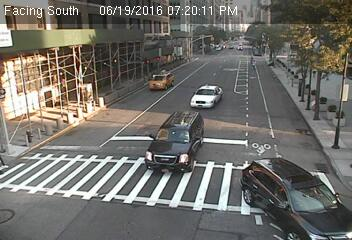neg: (152, 178, 175, 210), (115, 159, 138, 190), (103, 63, 123, 90), (77, 164, 96, 190), (250, 136, 269, 161), (176, 49, 195, 74), (37, 143, 56, 168), (177, 123, 194, 146), (151, 105, 167, 127), (322, 118, 338, 139), (207, 198, 222, 219), (268, 66, 283, 86), (75, 89, 90, 109), (65, 117, 80, 137), (314, 44, 329, 64), (140, 57, 154, 75), (305, 88, 318, 105), (221, 63, 234, 80)
